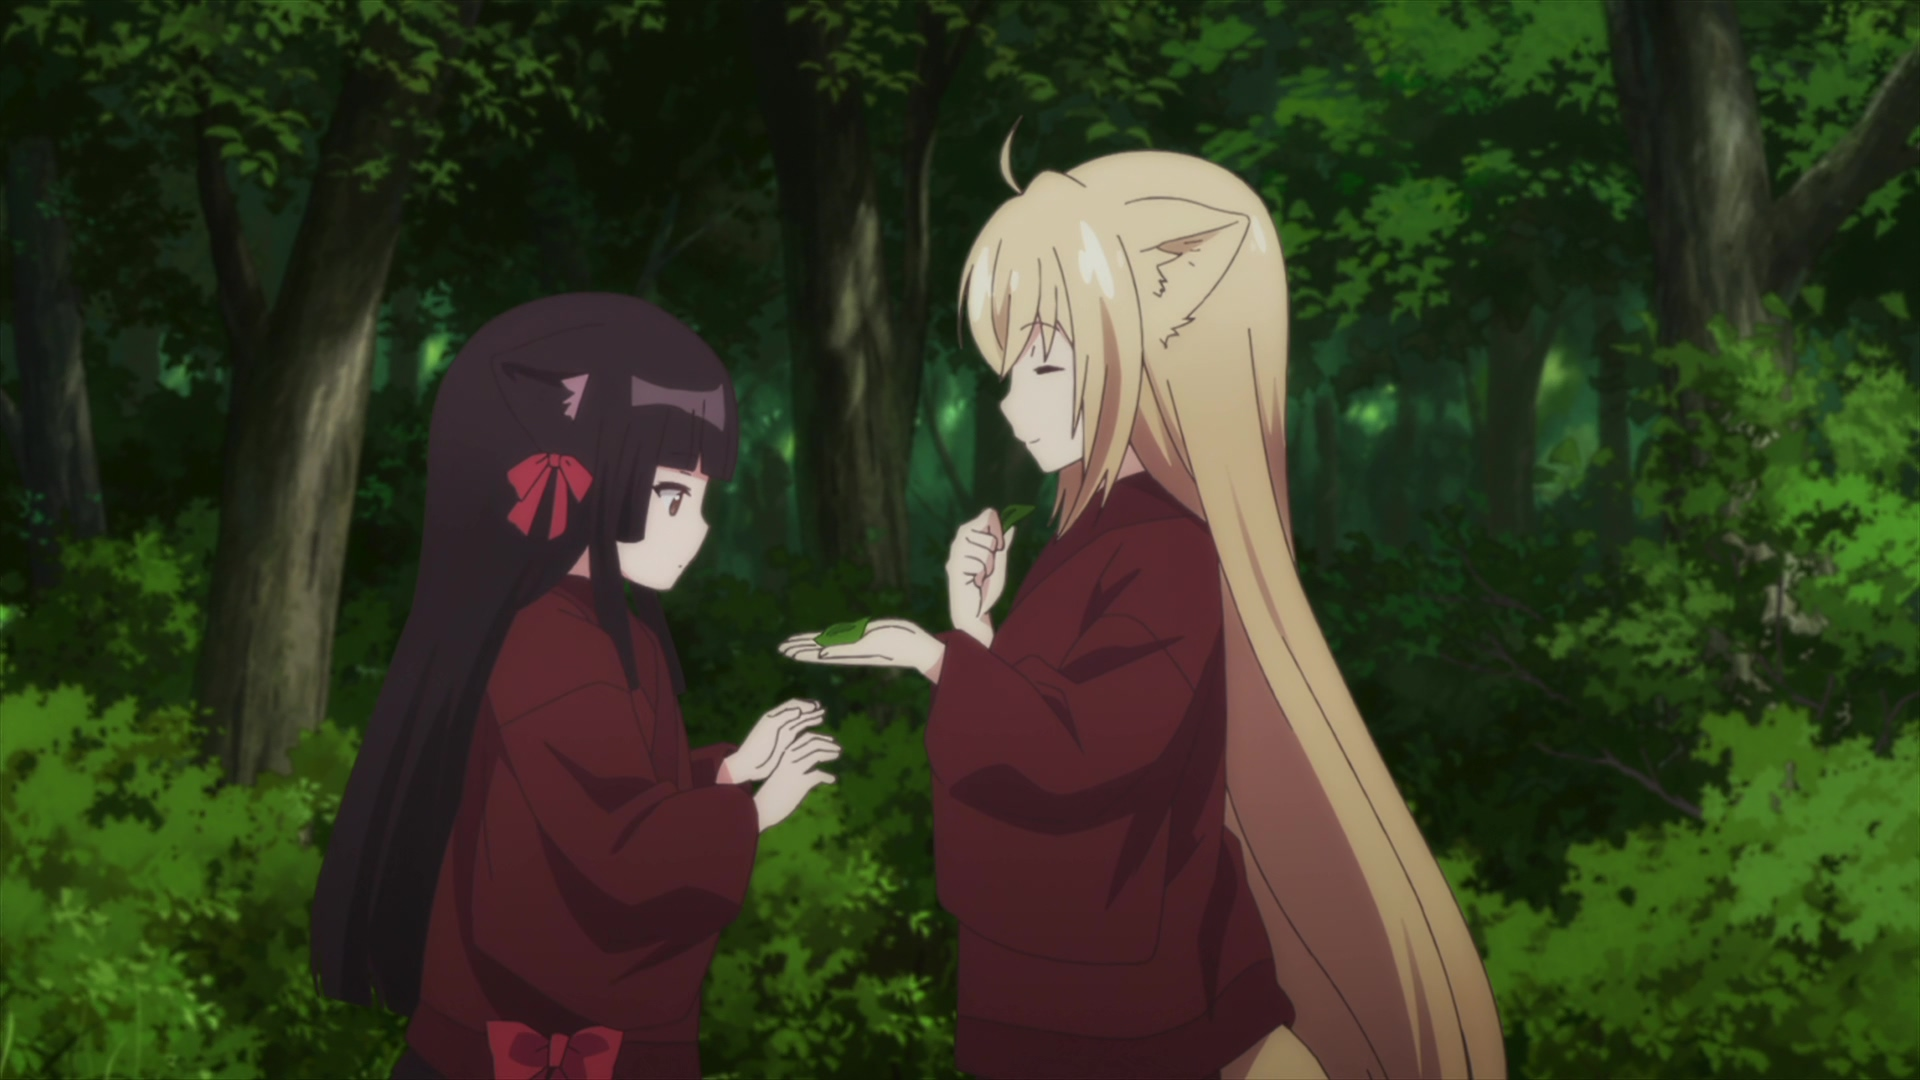柚: (781, 119, 1501, 1080)
樱: (313, 290, 837, 1080)
